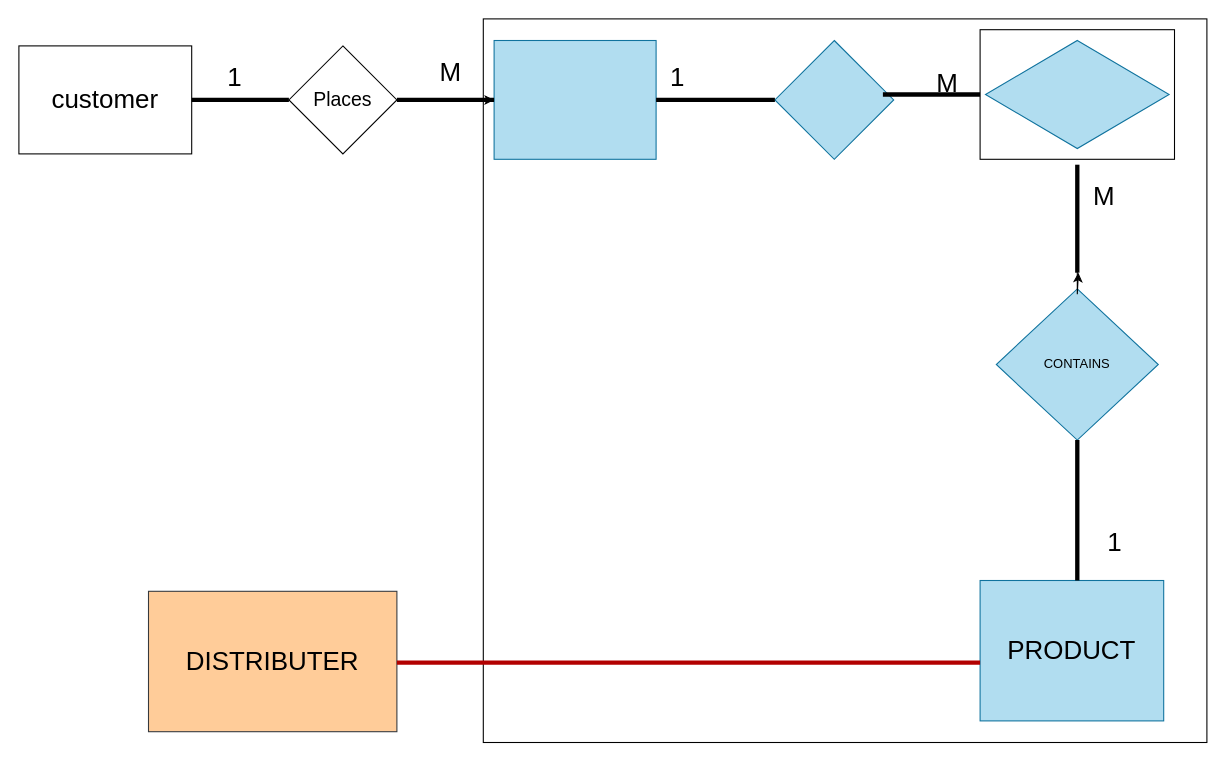
Some shapes in this 1226 by 761 pixel diagram are drawn without their labels. The shapes that lost their labels are listed below. From the top down, each one's centre as x and y in pixels, then its label:
At (x=574, y=99): "ORDER".
At (x=834, y=99): "Has".
At (x=1076, y=93): "ORDER LINE".
